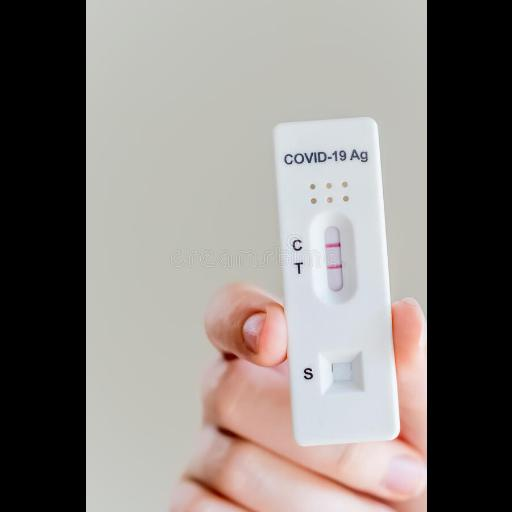Pos: (276, 119, 397, 444)
